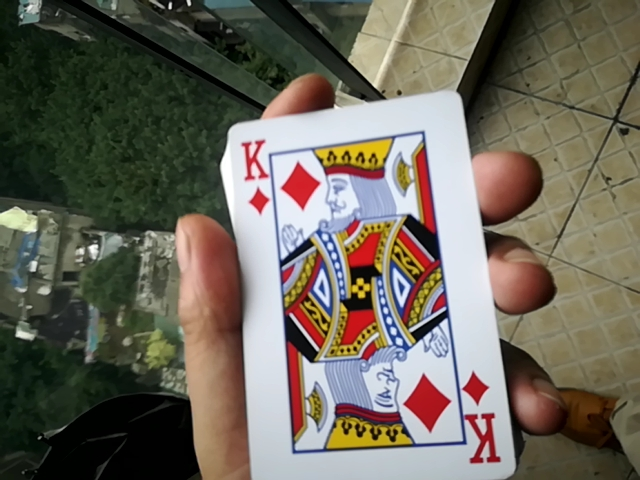fk k: (215, 88, 499, 479)
